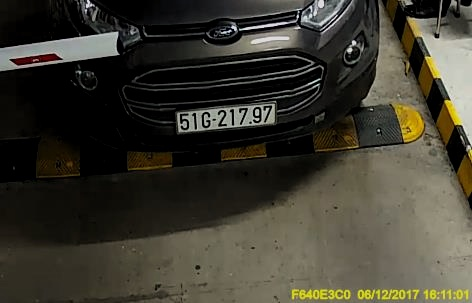plate: (172, 103, 277, 138)
